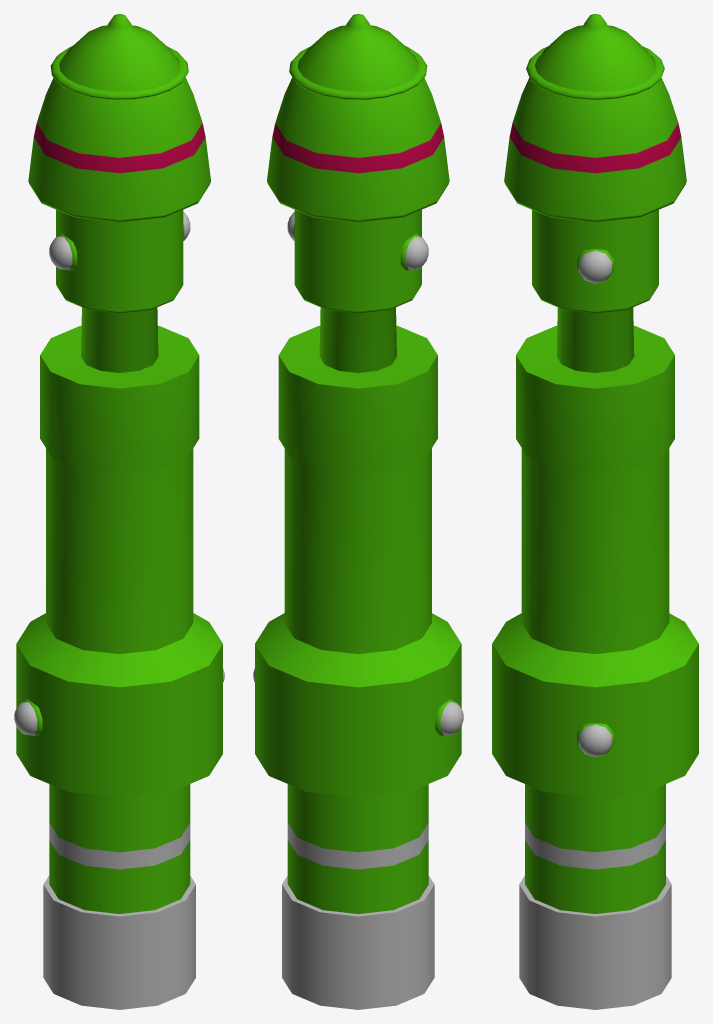
File: tra_veh_spaceShuttleBody.fbx
3 renders of one model, left to right at view 1: azimuth 30°, elevation 25°; view 2: azimuth 150°, elevation 25°; view 3: azimuth 270°, elevation 25°, orthographic.
Parts seen in each view (by area): view 1: tra_veh_spaceShuttleBody; view 2: tra_veh_spaceShuttleBody; view 3: tra_veh_spaceShuttleBody.
Part boxes in pixels (<box>): tra_veh_spaceShuttleBody: <box>14,14,224,1009</box>; tra_veh_spaceShuttleBody: <box>253,14,463,1009</box>; tra_veh_spaceShuttleBody: <box>492,14,698,1009</box>.
Size of the model in its own units: 2.25 by 10.1 by 1.96.
